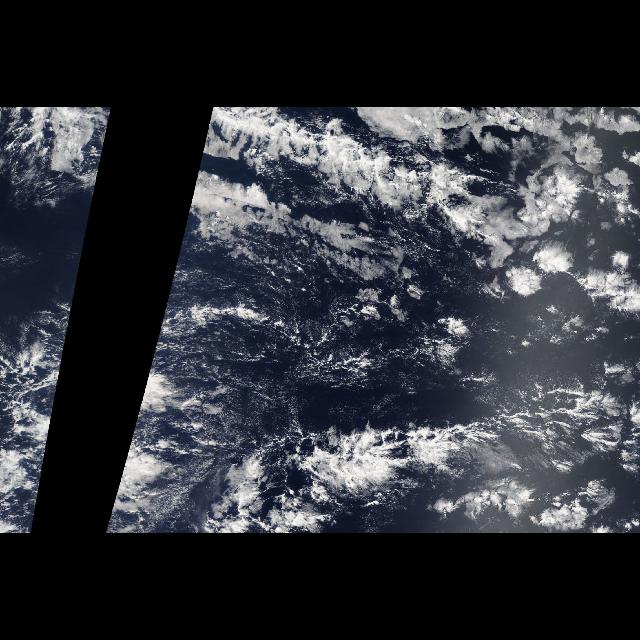Fish: (200, 372, 636, 530), (166, 130, 457, 304), (54, 130, 108, 304)
Flower: (472, 146, 640, 340)
Sugar: (184, 262, 448, 430)
